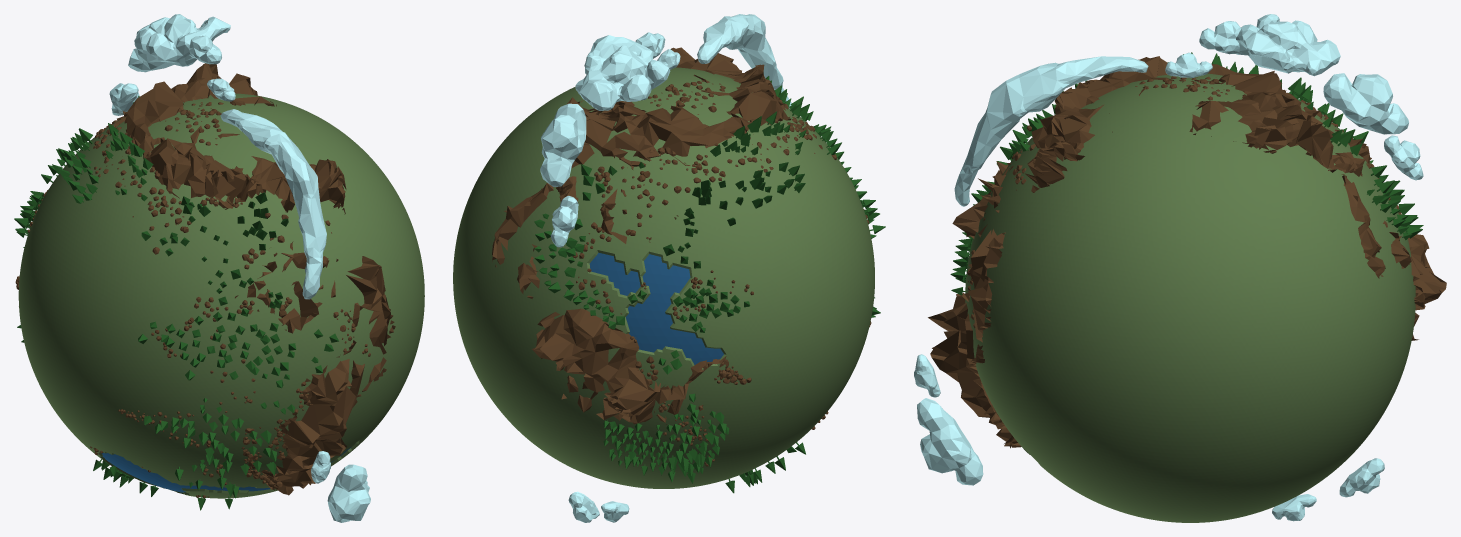
Rendered from planet.glb.
The picture shows the model from 3 angles, left to right: view 1: azimuth 30°, elevation 25°; view 2: azimuth 150°, elevation 25°; view 3: azimuth 270°, elevation 25°; orthographic projection. The views are drawn at different scales.
Visible parts, largest first — view 1: GeoSphere004, Object008, Object438, Box040, Object017, GeoSphere006; view 2: GeoSphere004, Object008, Object438, Box040, GeoSphere006, Object017; view 3: GeoSphere004, Object008, Object438, Box040, Object017.
Boxes of the visible parts, box(x1,y1,x2,y2) form: GeoSphere004: box(18, 93, 424, 498); Object008: box(113, 63, 395, 495); Object438: box(109, 14, 370, 522); Box040: box(14, 96, 338, 510); Object017: box(15, 102, 370, 498); GeoSphere006: box(101, 447, 351, 492); GeoSphere004: box(453, 67, 874, 488); Object008: box(492, 47, 796, 424); Object438: box(540, 14, 791, 522); Box040: box(534, 76, 885, 493); GeoSphere006: box(589, 252, 723, 364); Object017: box(572, 80, 871, 466); GeoSphere004: box(965, 73, 1415, 522); Object008: box(928, 56, 1446, 448); Object438: box(914, 14, 1423, 521); Box040: box(950, 52, 1423, 295); Object017: box(967, 76, 1401, 328).
Bounding box in the file's own units: 19.99 × 24.5 × 23.64.
